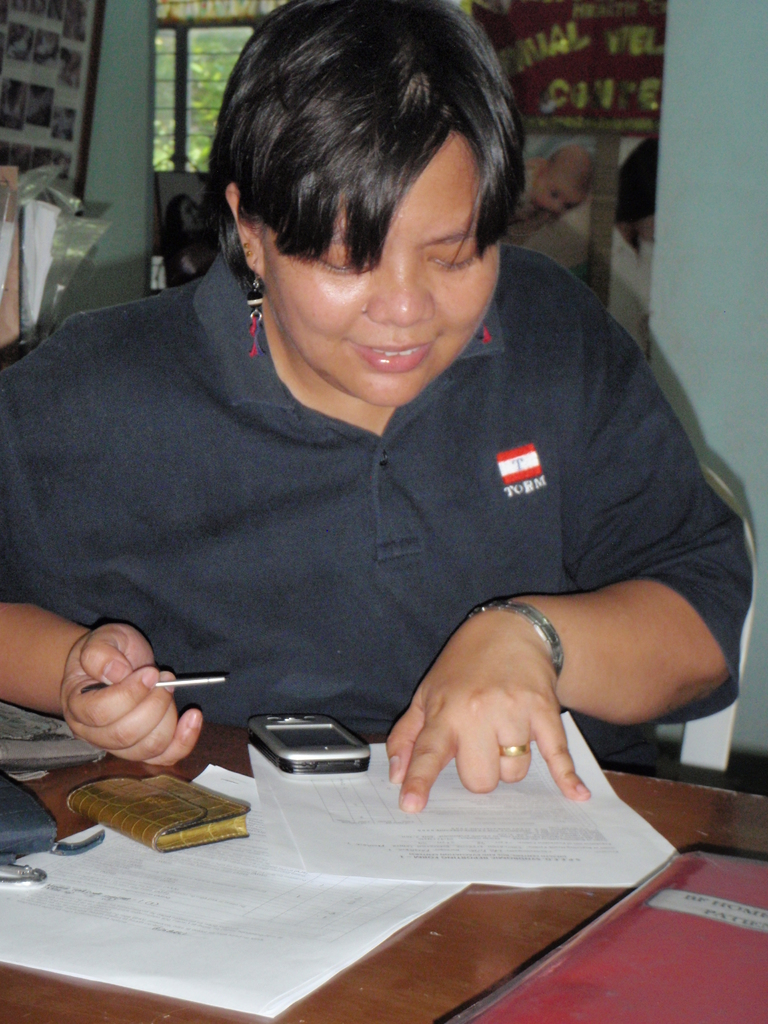Human_hand: (380, 608, 595, 820), (46, 634, 202, 770)
